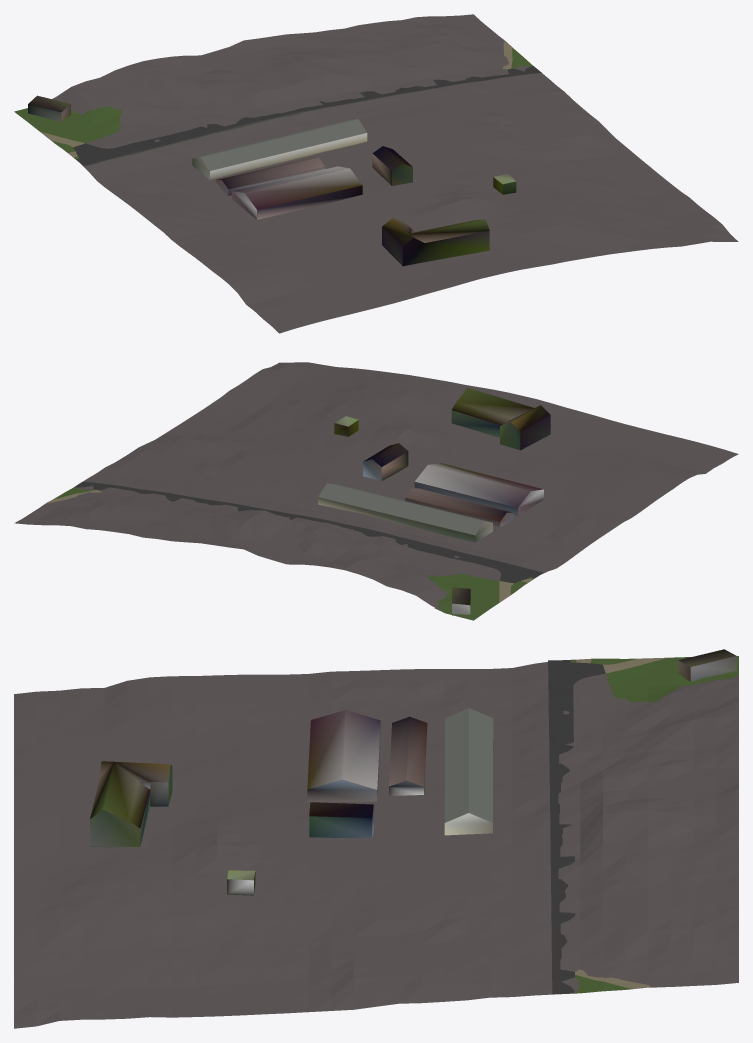
3 renders of one model, top to bottom at view 1: azimuth 30°, elevation 25°; view 2: azimuth 150°, elevation 25°; view 3: azimuth 270°, elevation 25°, orthographic. The views are drawn at different scales.
Visible parts, largest first — view 1: c_m09_m16; view 2: c_m09_m16; view 3: c_m09_m16.
Boxes of the visible parts, x1,y1,x2,y2 form: c_m09_m16: (14, 14, 738, 333); c_m09_m16: (14, 362, 738, 620); c_m09_m16: (14, 649, 738, 1028).
Size of the model in its own units: 128 by 17.93 by 128.
